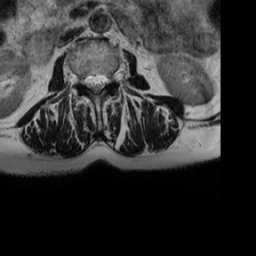CCS_normal: (92, 65, 99, 98)
LFS_normal: (107, 65, 115, 91)
LLS_normal: (99, 69, 107, 93)
RFS_normal: (76, 67, 84, 90)
RLS_normal: (84, 69, 92, 91)
